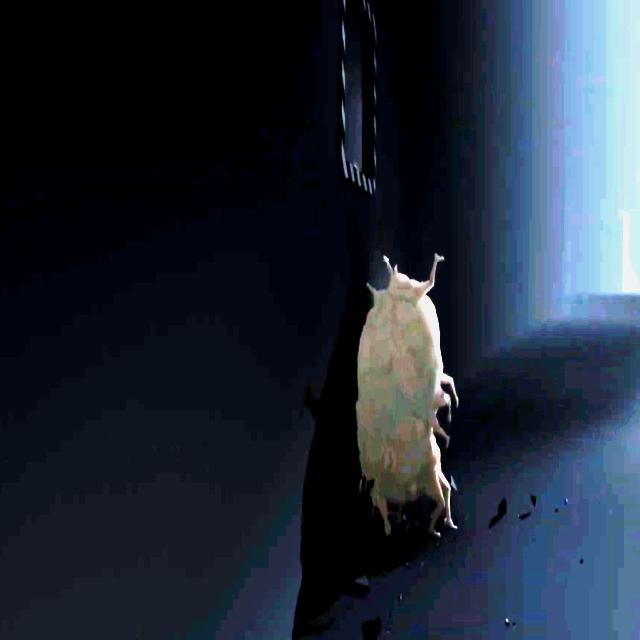blob: (360, 255, 458, 536)
